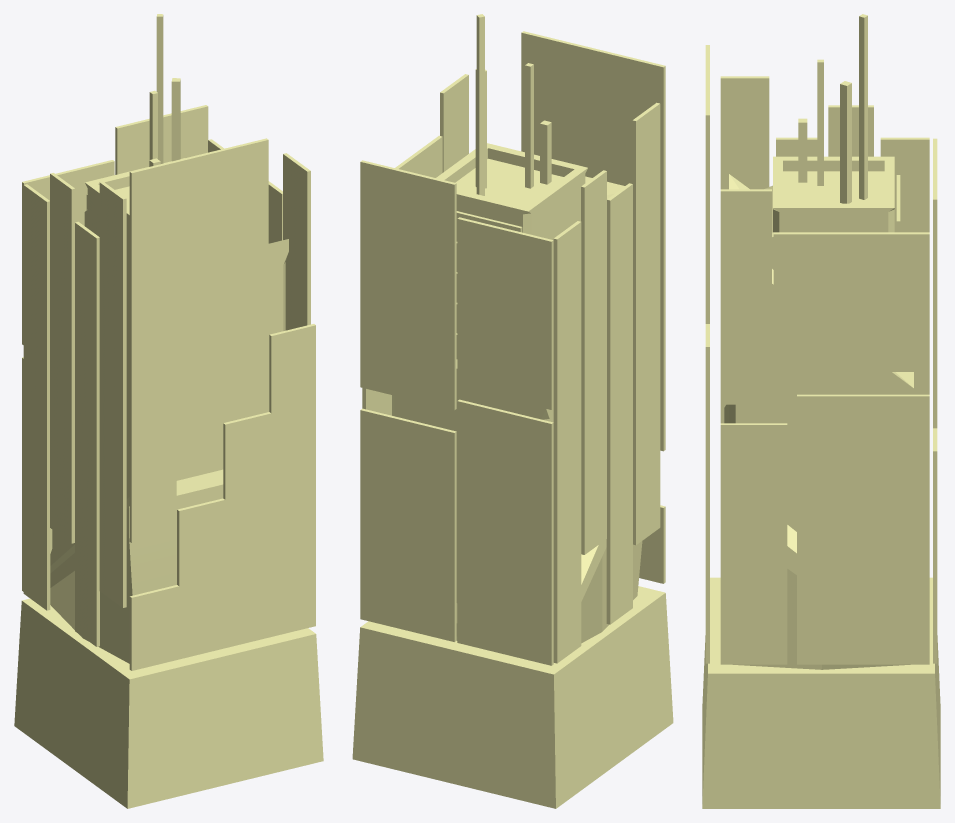
The model's file is MangaKa Props - F_S_ScifiBuilding_19.glb.
The picture shows the model from 3 angles, left to right: view 1: azimuth 30°, elevation 25°; view 2: azimuth 150°, elevation 25°; view 3: azimuth 270°, elevation 25°; orthographic projection. The views are drawn at different scales.
Visible parts, largest first — view 1: F_S_ScifiBuilding_19003_blueScreen, F_S_ScifiBuilding_19_blueScreen, F_S_ScifiBuilding_19004_blueScreen; view 2: F_S_ScifiBuilding_19003_blueScreen, F_S_ScifiBuilding_19_blueScreen, F_S_ScifiBuilding_19004_blueScreen, F_S_ScifiBuilding_19002_blueScreen, F_S_ScifiBuilding_19001_blueScreen; view 3: F_S_ScifiBuilding_19003_blueScreen, F_S_ScifiBuilding_19_blueScreen, F_S_ScifiBuilding_19004_blueScreen, F_S_ScifiBuilding_19002_blueScreen, F_S_ScifiBuilding_19001_blueScreen.
Boxes of the visible parts, <box> form: F_S_ScifiBuilding_19003_blueScreen: <box>22,105,315,670</box>; F_S_ScifiBuilding_19_blueScreen: <box>14,183,323,808</box>; F_S_ScifiBuilding_19004_blueScreen: <box>86,14,288,330</box>; F_S_ScifiBuilding_19003_blueScreen: <box>360,31,665,665</box>; F_S_ScifiBuilding_19_blueScreen: <box>352,168,673,808</box>; F_S_ScifiBuilding_19004_blueScreen: <box>392,14,624,421</box>; F_S_ScifiBuilding_19002_blueScreen: <box>444,148,574,205</box>; F_S_ScifiBuilding_19001_blueScreen: <box>436,143,587,211</box>; F_S_ScifiBuilding_19003_blueScreen: <box>705,45,937,664</box>; F_S_ScifiBuilding_19_blueScreen: <box>702,186,940,808</box>; F_S_ScifiBuilding_19004_blueScreen: <box>729,14,913,423</box>; F_S_ScifiBuilding_19002_blueScreen: <box>783,160,884,203</box>; F_S_ScifiBuilding_19001_blueScreen: <box>773,156,894,207</box>.
Size of the model in its own units: 5.75 by 19.91 by 5.75.
